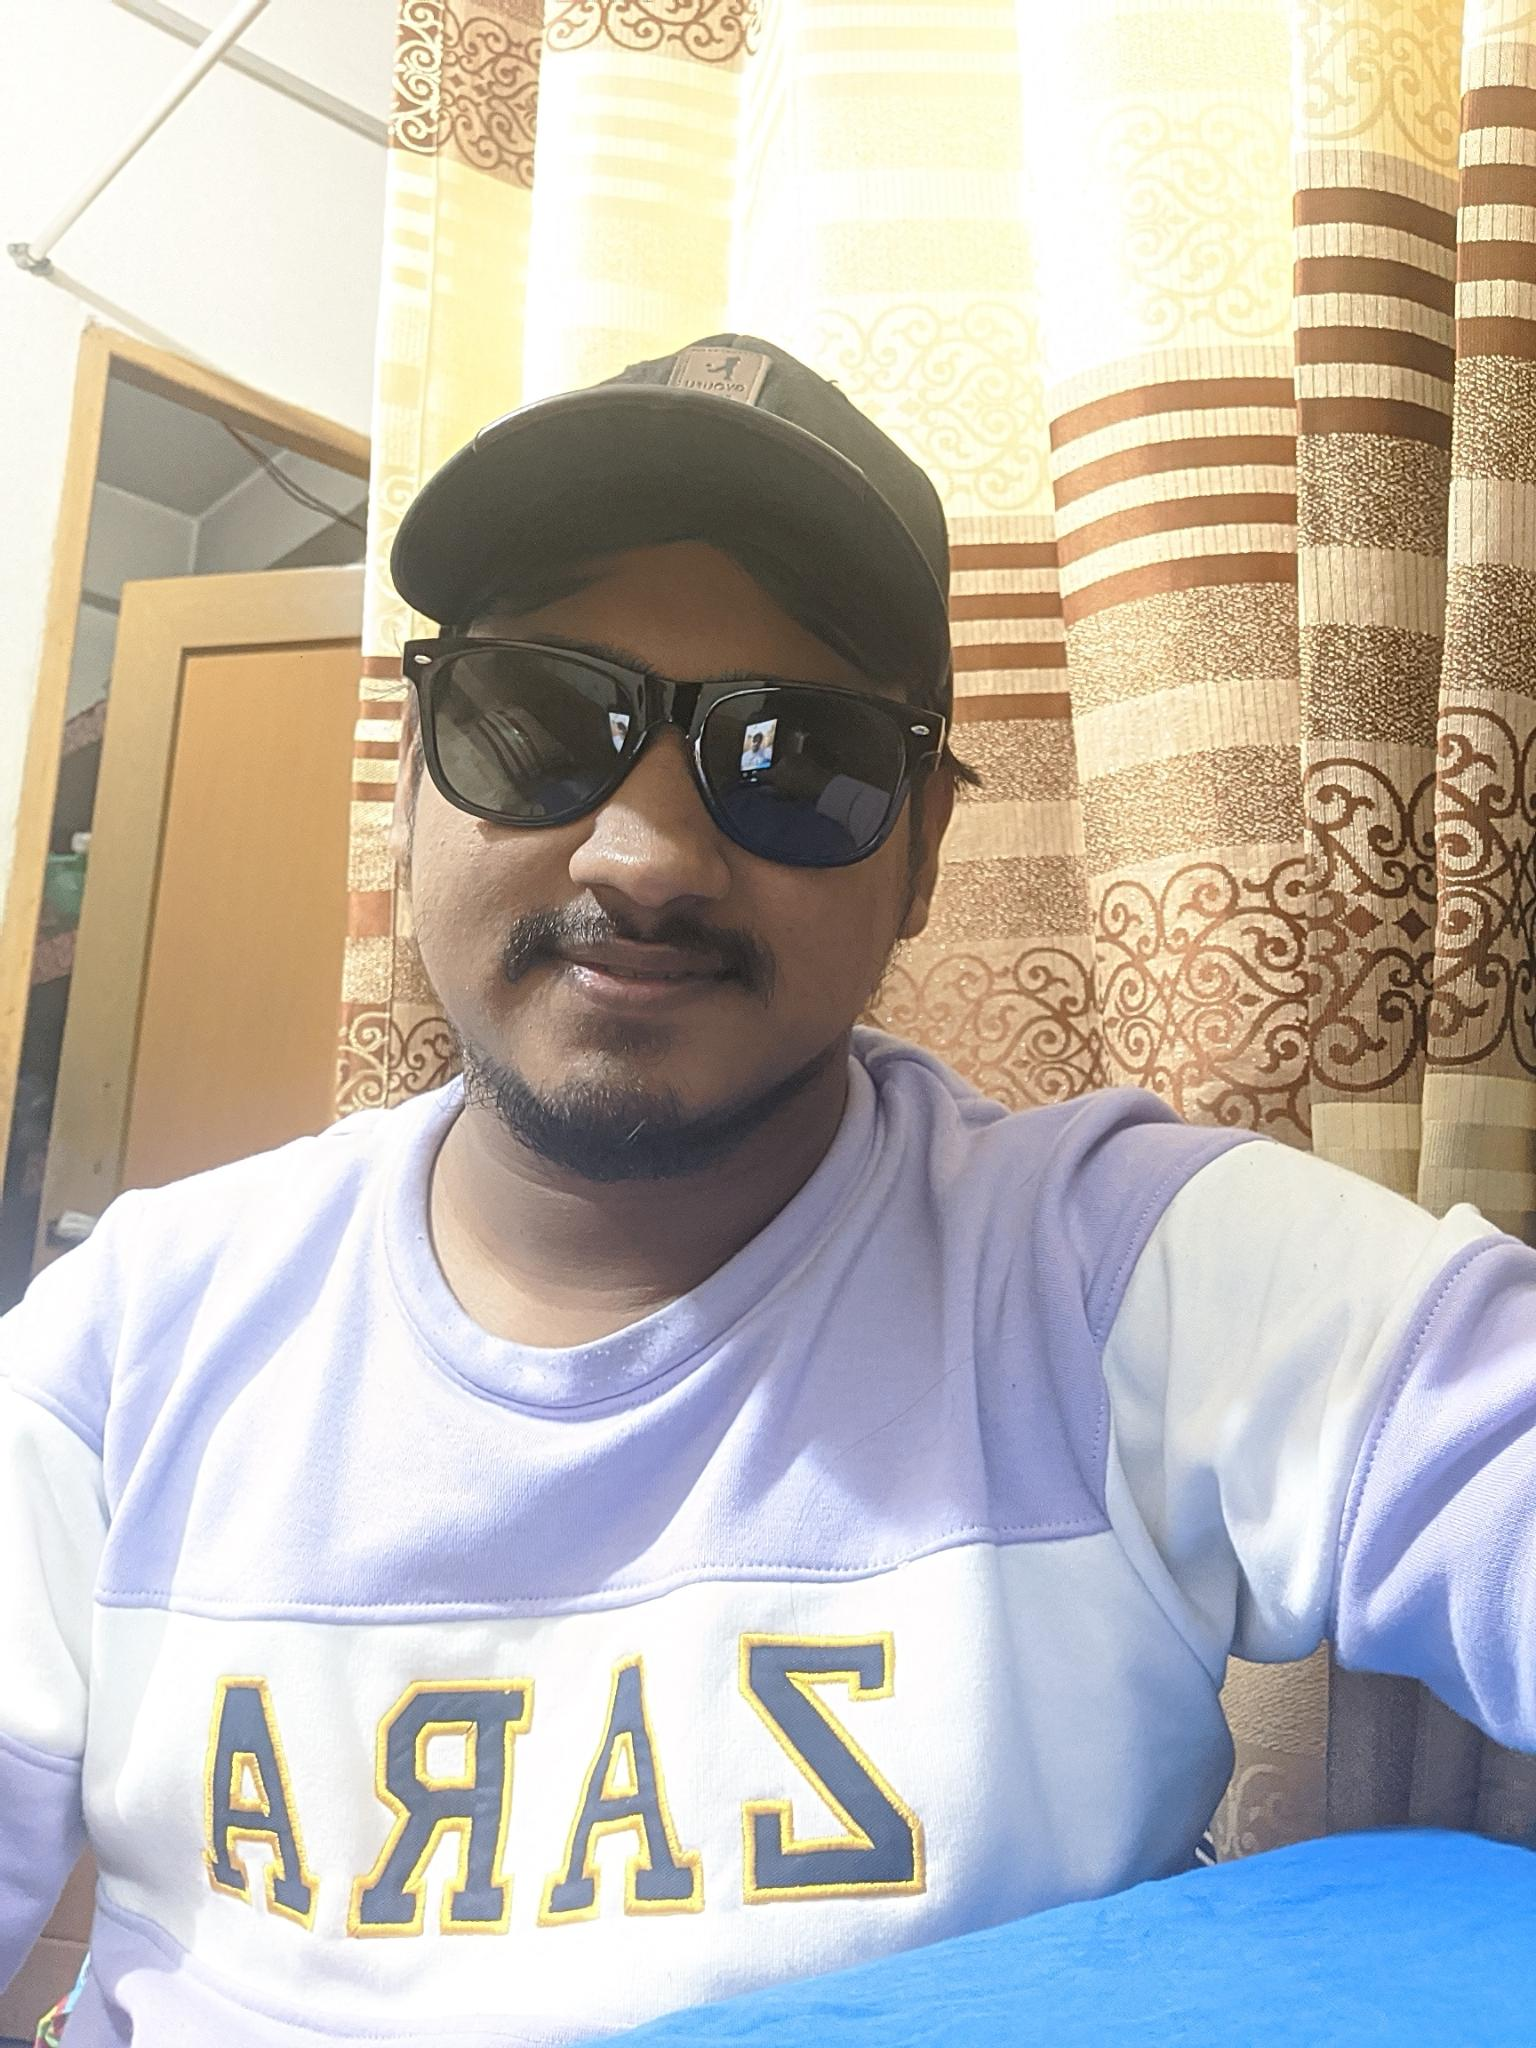Happy: (405, 597, 902, 1159)
